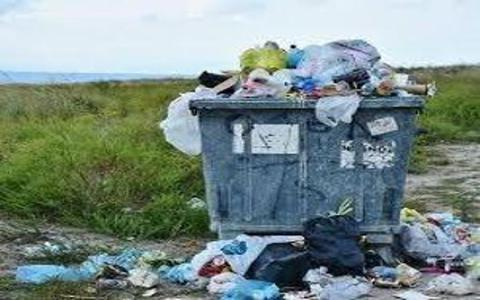overflowing garbage: (172, 20, 436, 291)
